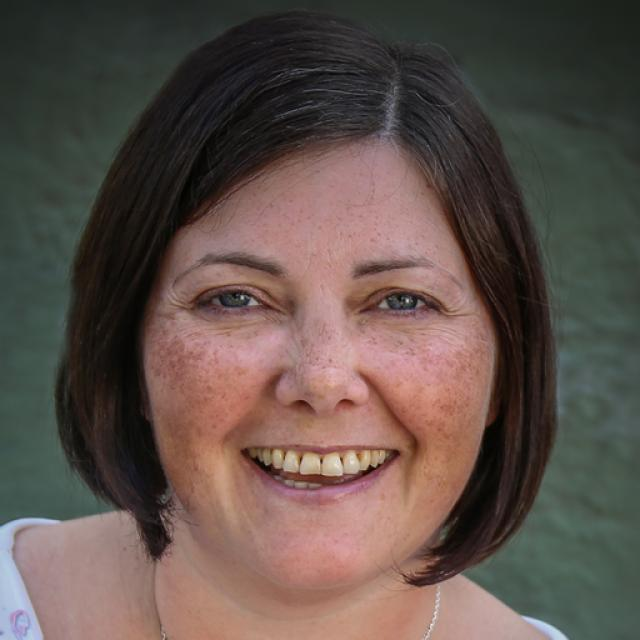Pigmentation: (364, 317, 493, 458), (148, 301, 254, 472), (282, 317, 357, 402)
